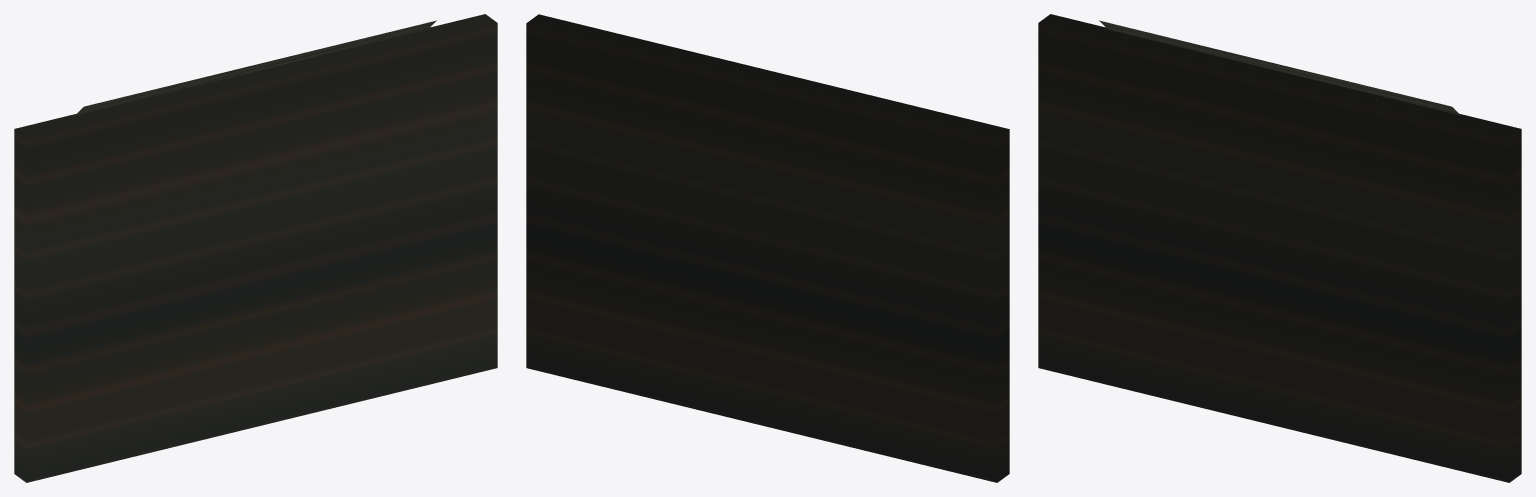
The model's file is trap_t12_electric_fence.glb.
3 renders of one model, left to right at view 1: azimuth 30°, elevation 25°; view 2: azimuth 150°, elevation 25°; view 3: azimuth 330°, elevation 25°, orthographic.
Parts seen in each view (by area): view 1: trap_t12_electric_fence; view 2: trap_t12_electric_fence; view 3: trap_t12_electric_fence.
Boxes of the visible parts, left/top/right/bottom form: trap_t12_electric_fence: left=14, top=14, right=497, bottom=482; trap_t12_electric_fence: left=526, top=14, right=1009, bottom=482; trap_t12_electric_fence: left=1038, top=14, right=1521, bottom=482.
Size of the model in its own units: 4 by 2.93 by 0.18.
1 material, 1 textured.
